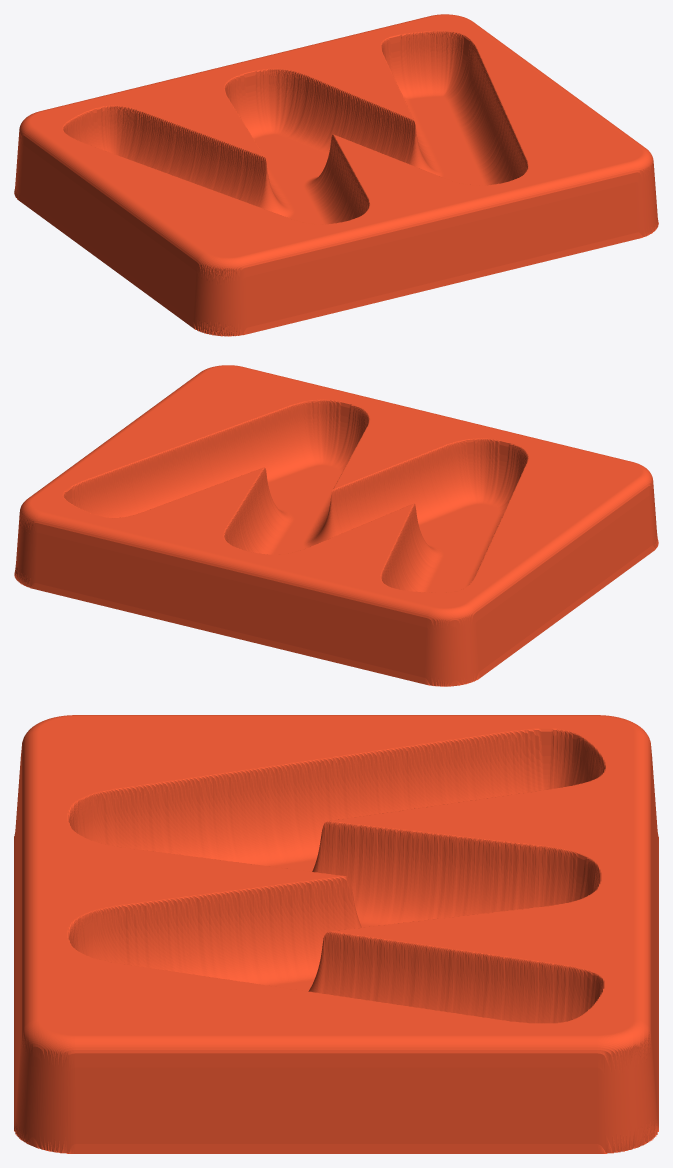
The model's file is mold.glb.
3 renders of one model, top to bottom at view 1: azimuth 30°, elevation 25°; view 2: azimuth 150°, elevation 25°; view 3: azimuth 270°, elevation 25°, orthographic. The views are drawn at different scales.
Visible parts, largest first — view 1: geometry_0; view 2: geometry_0; view 3: geometry_0.
Boxes of the visible parts, x1=… form: geometry_0: x1=14, y1=14, x2=658, y2=336; geometry_0: x1=14, y1=365, x2=658, y2=686; geometry_0: x1=14, y1=715, x2=658, y2=1153.
Bounding box in the file's own units: 0.1178 × 0.0175 × 0.0946.
